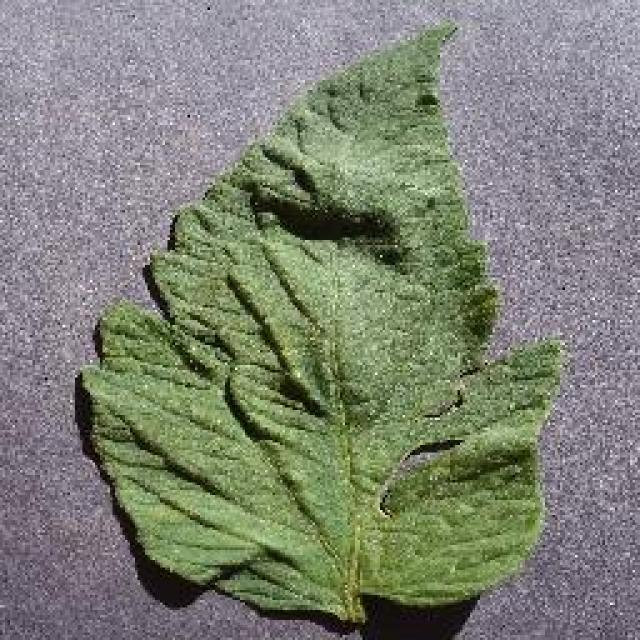Tomato healthy leaf: (61, 19, 561, 629)
